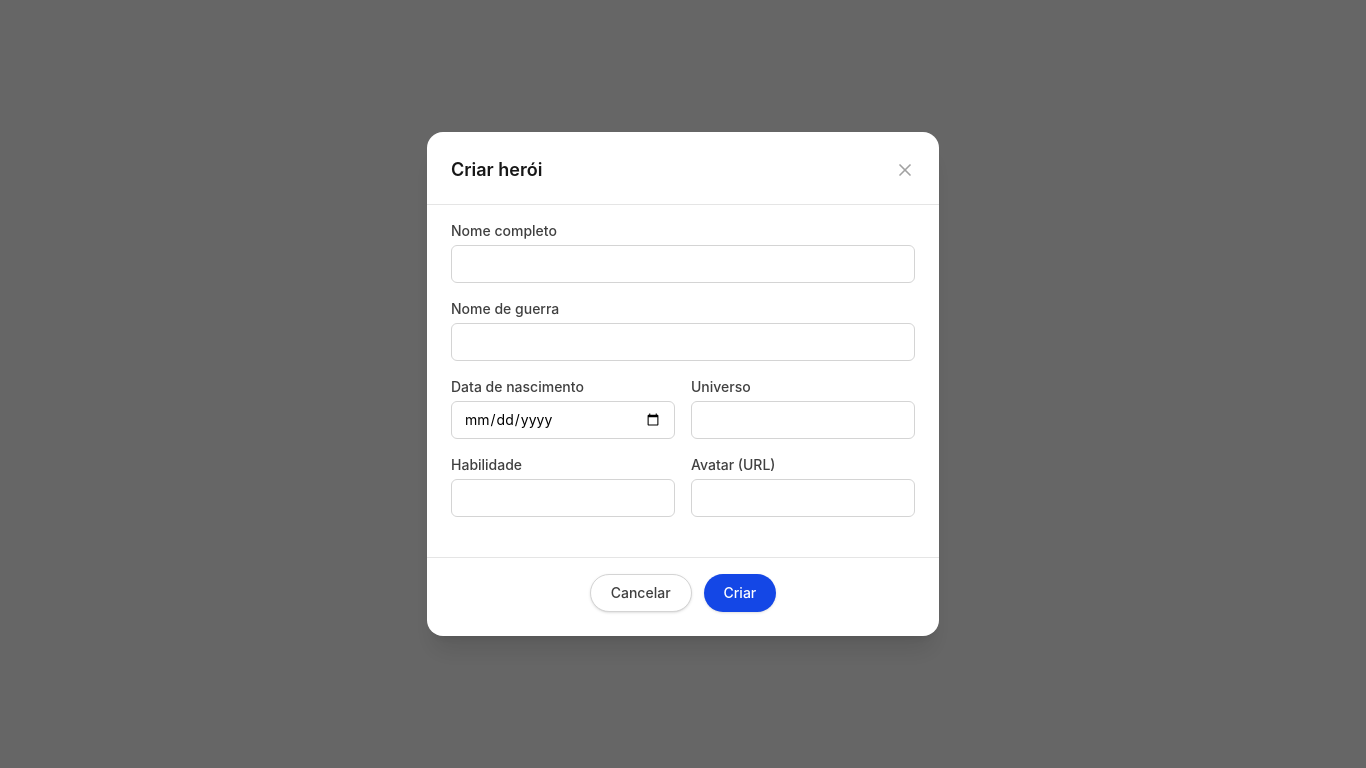
Test: HeroFormModal › não envia quando os campos obrigatórios estão vazios
The width and height of the screenshot is (1366, 768).
Click the button "Criar".
click(740, 593)  # box [704,574,776,612]
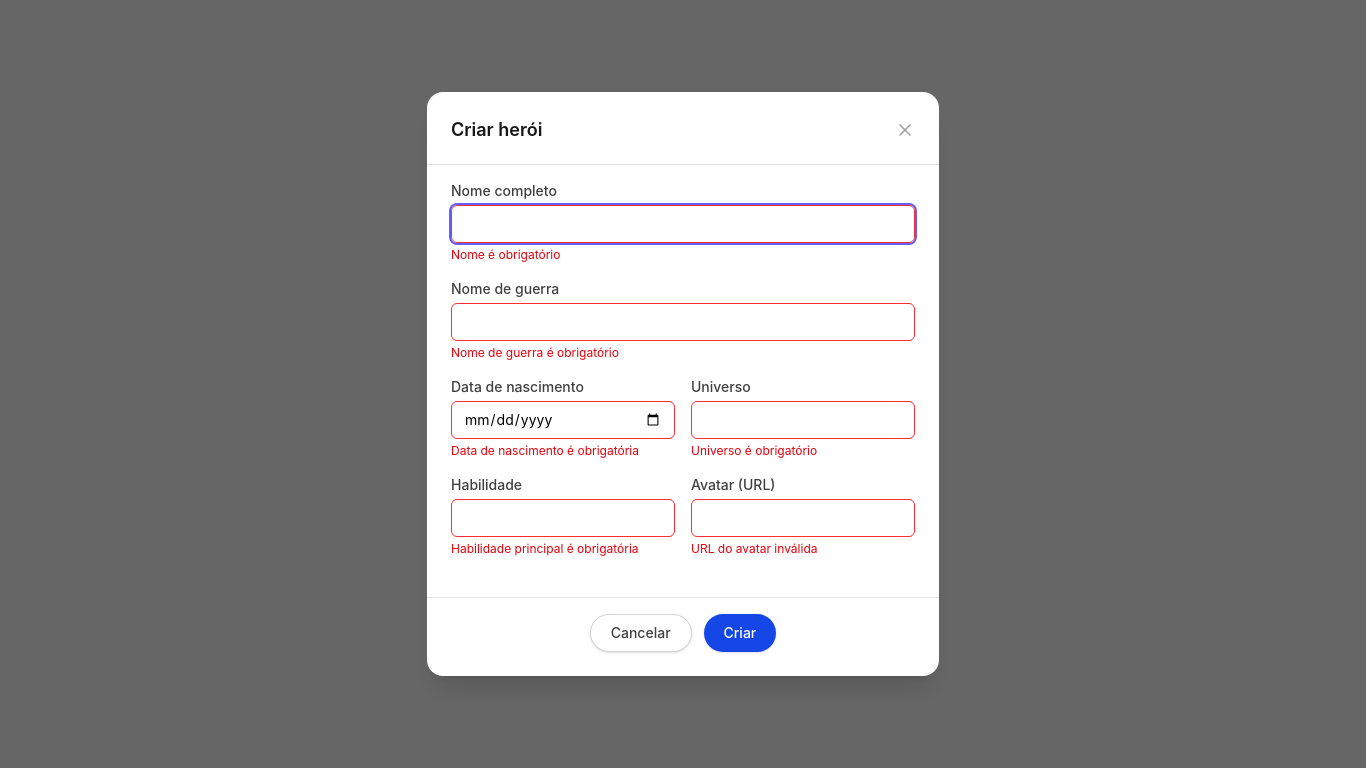
Check: the text "Nome é obrigatório" is shown, box [451,247,560,262]
